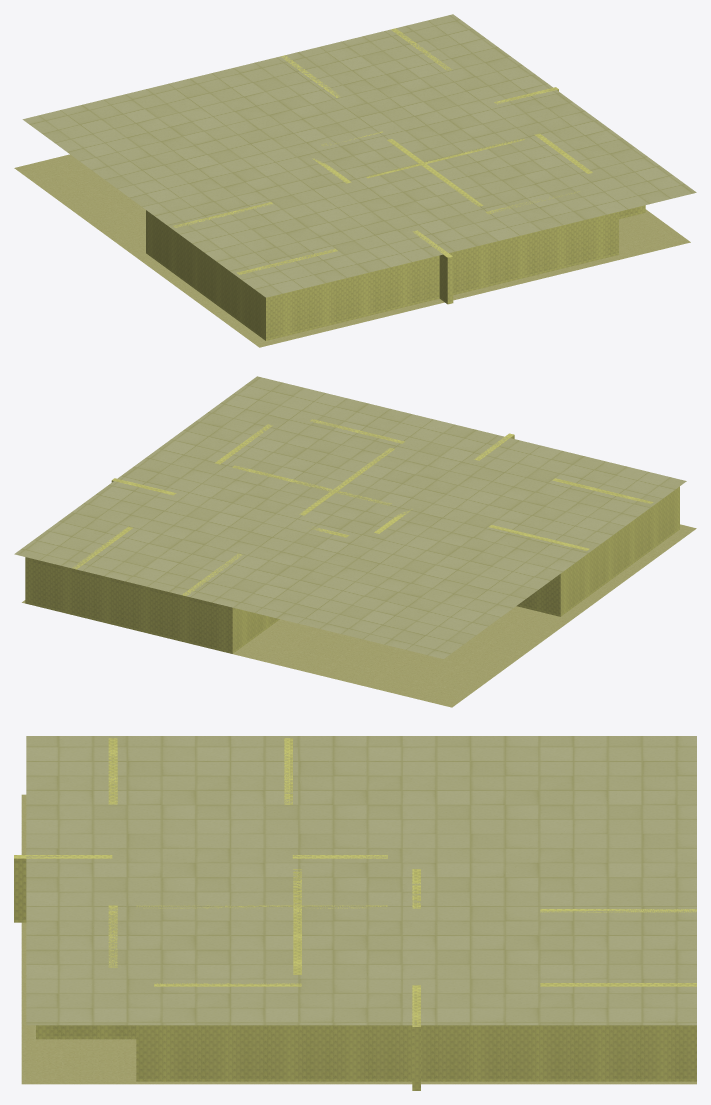
File: SM_Backrooms_02.fbx
3 views of the same model, one above another, from view 1: azimuth 30°, elevation 25°; view 2: azimuth 150°, elevation 25°; view 3: azimuth 270°, elevation 25° (orthographic). The views are drawn at different scales.
Visible parts, largest first — view 1: SM_Backrooms_02; view 2: SM_Backrooms_02; view 3: SM_Backrooms_02.
Part boxes in pixels (x1,y1,x2,y2): SM_Backrooms_02: (14, 14, 696, 347); SM_Backrooms_02: (14, 376, 696, 707); SM_Backrooms_02: (14, 736, 696, 1090).
Bounding box in the file's own units: 5434 × 549 × 5292.
